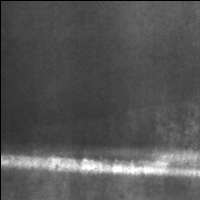scratches: (1, 150, 200, 179)
